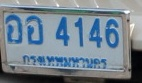txt38: (24, 14, 44, 46), (4, 13, 23, 45)
